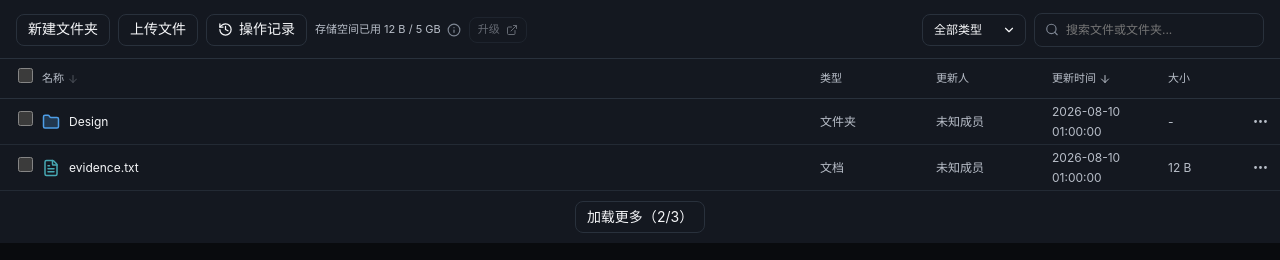
project asset directory interactions › keeps pagination scoped to the current directory while navigating
Expected: the text "evidence.txt" is shown, left=69, top=158, right=139, bottom=177
Click the cell "Design". click: {"x": 89, "y": 121}
box: left=34, top=100, right=812, bottom=144
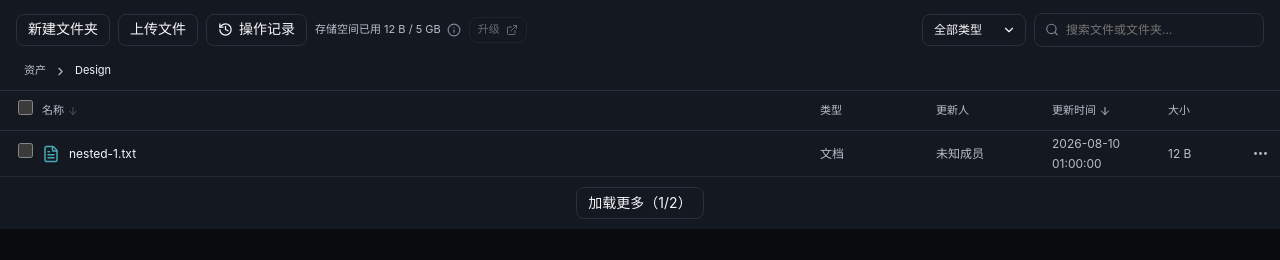
Now the text "nested-1.txt" is shown, box left=69, top=144, right=136, bottom=163
Now the text "evidence.txt" is gone
Click the button "加载更多（1/2）". click: {"x": 640, "y": 203}
box: left=576, top=187, right=704, bottom=219
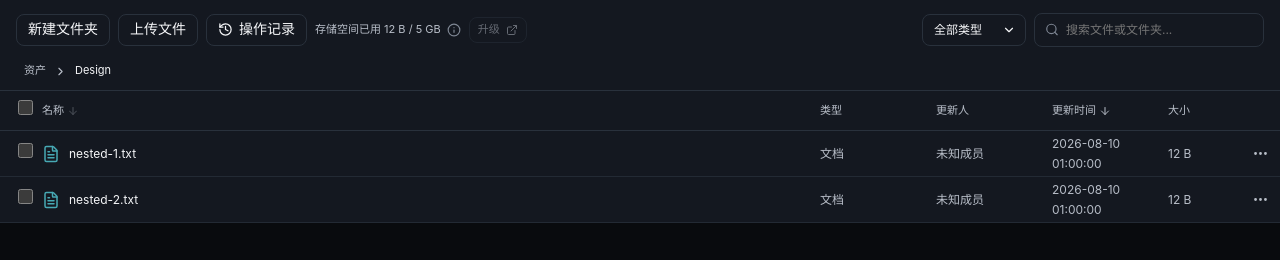
Now the text "nested-2.txt" is shown, box left=69, top=190, right=138, bottom=209
Click the button "资产". click: {"x": 35, "y": 71}
box: left=19, top=59, right=51, bottom=83
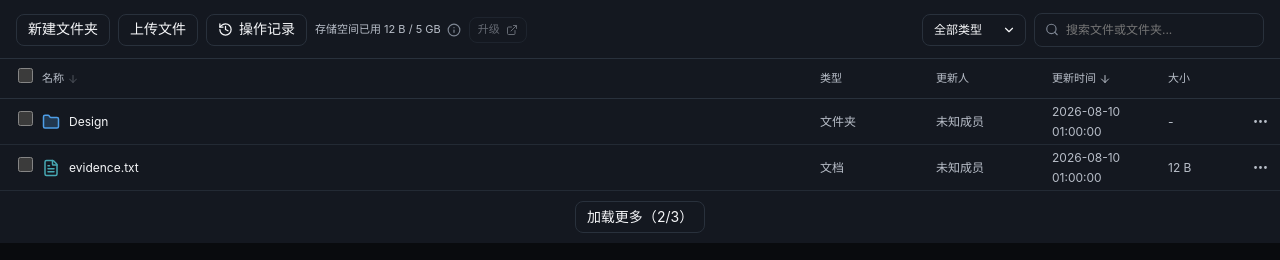
Expected: the text "root-2.txt" is not shown
Now the text "evidence.txt" is shown, box left=69, top=158, right=139, bottom=177
Now the text "nested-2.txt" is gone
Click the button "加载更多（2/3）". click: {"x": 640, "y": 217}
box: left=575, top=201, right=705, bottom=233
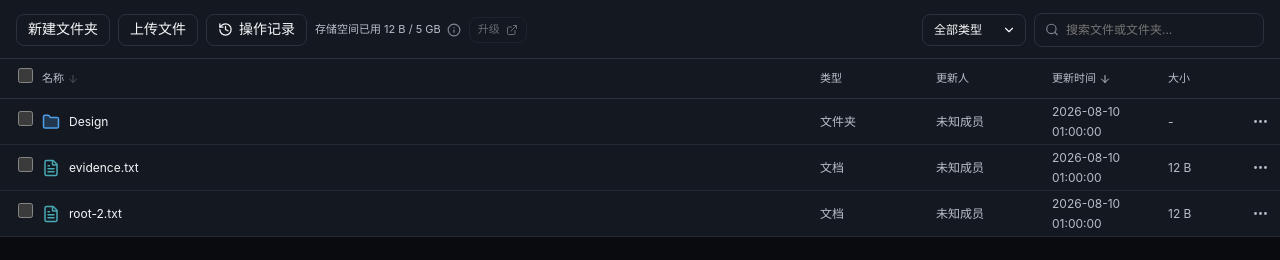
Now the text "root-2.txt" is shown, box left=69, top=204, right=122, bottom=223
